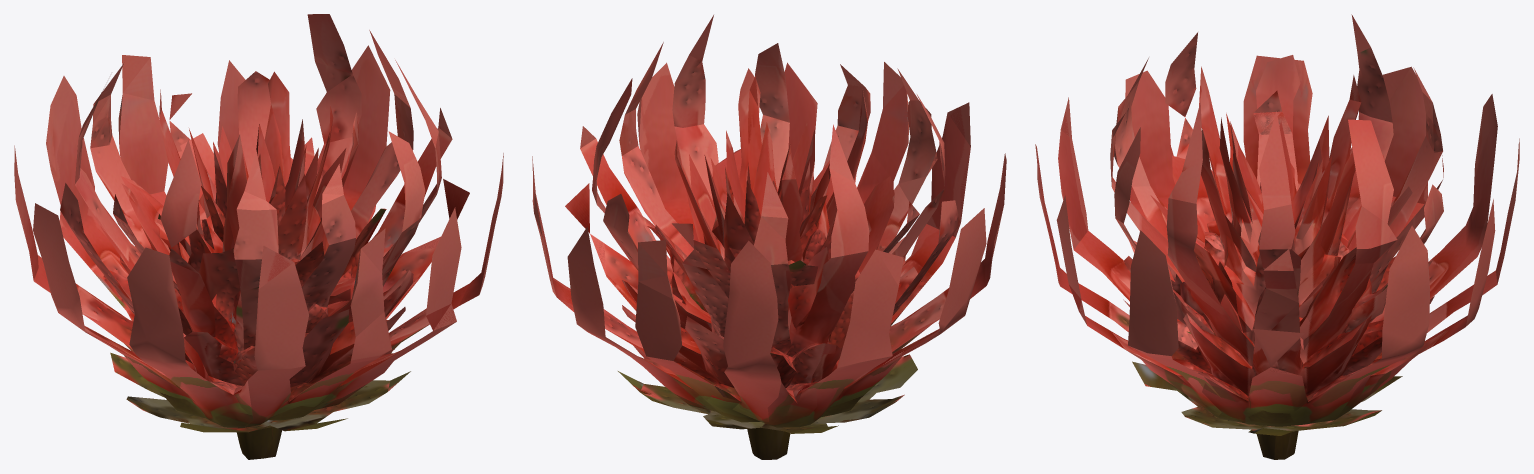
The model's file is OhiaFlower.fbx.
3 views of the same model, side by side, from view 1: azimuth 30°, elevation 25°; view 2: azimuth 150°, elevation 25°; view 3: azimuth 270°, elevation 25° (orthographic). The views are drawn at different scales.
Parts seen in each view (by area): view 1: input; view 2: input; view 3: input.
Part boxes in pixels (<box>): input: <box>14,14,503,459</box>; input: <box>532,15,1006,459</box>; input: <box>1035,14,1519,459</box>.
Size of the model in its own units: 95.94 by 90.1 by 99.13.
1 material, 1 textured.
